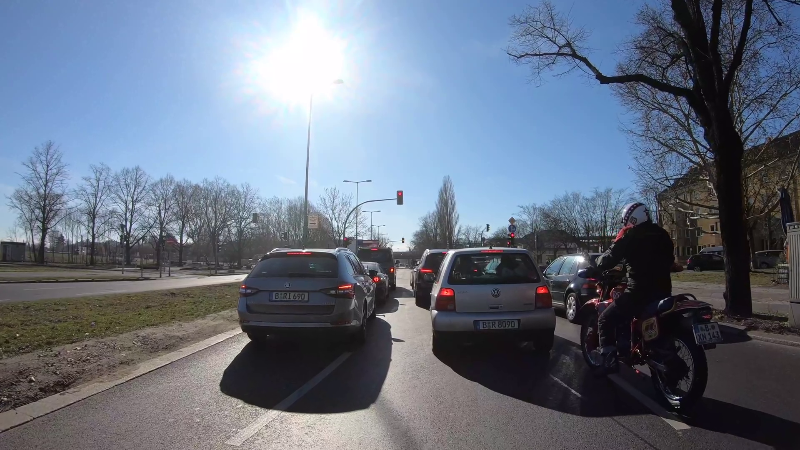Plate: (267, 288, 308, 301), (475, 319, 520, 329)
